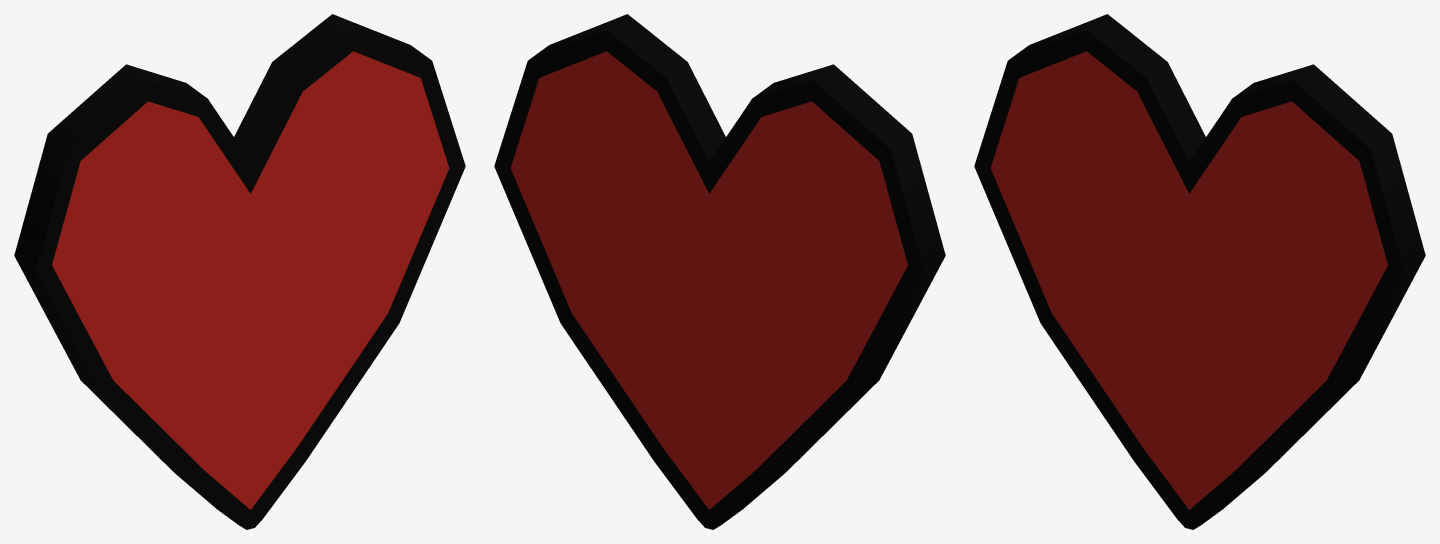
Rendered from Coracao.fbx.
3 views of the same model, side by side, from view 1: azimuth 30°, elevation 25°; view 2: azimuth 150°, elevation 25°; view 3: azimuth 330°, elevation 25° (orthographic).
Parts seen in each view (by area): view 1: Coracao; view 2: Coracao; view 3: Coracao.
Part boxes in pixels (<box>): Coracao: <box>14,14,465,529</box>; Coracao: <box>494,14,945,529</box>; Coracao: <box>974,14,1425,529</box>.
Bounding box in the file's own units: 354 × 373 × 30.5.
